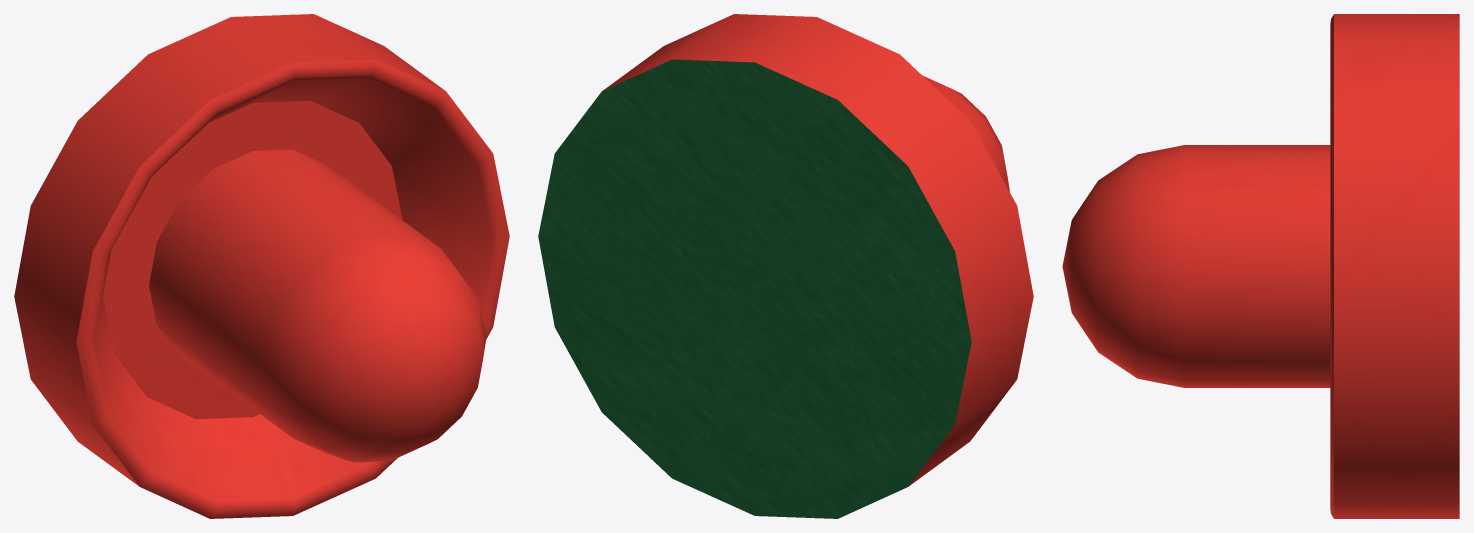
Rendered from mallet_ver2.obj.
The picture shows the model from 3 angles, left to right: view 1: azimuth 30°, elevation 25°; view 2: azimuth 150°, elevation 25°; view 3: azimuth 270°, elevation 25°; orthographic projection.
Visible parts, largest first — view 1: Striker2_Sphere.003; view 2: Striker2_Sphere.003; view 3: Striker2_Sphere.003.
Part boxes in pixels (x1,y1,x2,y2): Striker2_Sphere.003: (14, 14, 509, 518); Striker2_Sphere.003: (538, 14, 1033, 518); Striker2_Sphere.003: (1062, 14, 1459, 518).
Bounding box in the file's own units: 0.1124 × 0.1124 × 0.0883.
1 material, 1 textured.
